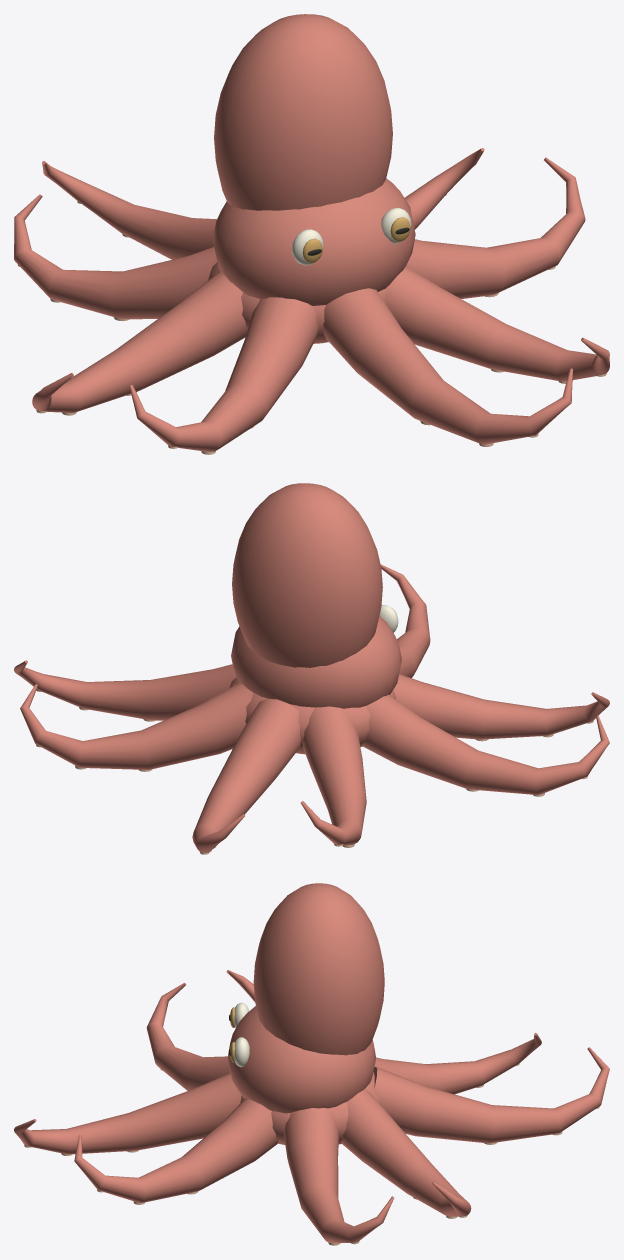
Rendered from animal_octopus.glb.
3 renders of one model, top to bottom at view 1: azimuth 30°, elevation 25°; view 2: azimuth 150°, elevation 25°; view 3: azimuth 270°, elevation 25°, orthographic. The views are drawn at different scales.
Visible parts, largest first — view 1: Octopus rounded mantle, Octopus head, Octopus arm 07, Octopus arm 05, Octopus arm 08, Octopus arm 06, Octopus arm 04, Octopus arm 01, Octopus arm 03, Octopus arm 02, Octopus arm hub; view 2: Octopus rounded mantle, Octopus arm 05, Octopus arm 02, Octopus head, Octopus arm 03, Octopus arm 06, Octopus arm 01, Octopus arm 04, Octopus arm 07, Octopus arm hub; view 3: Octopus rounded mantle, Octopus arm 03, Octopus head, Octopus arm 07, Octopus arm 08, Octopus arm 01, Octopus arm 02, Octopus arm 04, Octopus arm 06, Octopus arm hub.
Boxes of the visible parts, <box> form: Octopus rounded mantle: <box>214,14,392,210</box>; Octopus head: <box>213,178,415,305</box>; Octopus arm 07: <box>323,288,572,444</box>; Octopus arm 05: <box>32,271,247,413</box>; Octopus arm 08: <box>385,266,609,381</box>; Octopus arm 06: <box>129,297,318,451</box>; Octopus arm 04: <box>14,194,216,319</box>; Octopus arm 01: <box>406,157,585,298</box>; Octopus arm 03: <box>42,161,216,259</box>; Octopus arm 02: <box>405,148,484,229</box>; Octopus arm hub: <box>207,262,407,343</box>; Octopus rounded mantle: <box>232,483,382,667</box>; Octopus arm 05: <box>362,694,609,794</box>; Octopus arm 02: <box>20,682,252,769</box>; Octopus head: <box>231,616,401,708</box>; Octopus arm 03: <box>192,699,300,852</box>; Octopus arm 06: <box>393,674,609,739</box>; Octopus arm 01: <box>14,660,236,720</box>; Octopus arm 04: <box>300,706,366,845</box>; Octopus arm 07: <box>380,564,430,677</box>; Octopus arm hub: <box>229,677,396,754</box>; Octopus rounded mantle: <box>253,883,384,1055</box>; Octopus arm 03: <box>373,1047,609,1143</box>; Octopus head: <box>227,1006,375,1113</box>; Octopus arm 07: <box>14,1073,241,1154</box>; Octopus arm 08: <box>74,1098,278,1202</box>; Octopus arm 01: <box>283,1108,394,1243</box>; Octopus arm 02: <box>341,1089,471,1216</box>; Octopus arm 04: <box>374,1032,541,1094</box>; Octopus arm 06: <box>146,983,230,1090</box>; Octopus arm hub: <box>240,1072,381,1144</box>.
Bounding box in the file's own units: 2.33 × 1.15 × 2.41.
